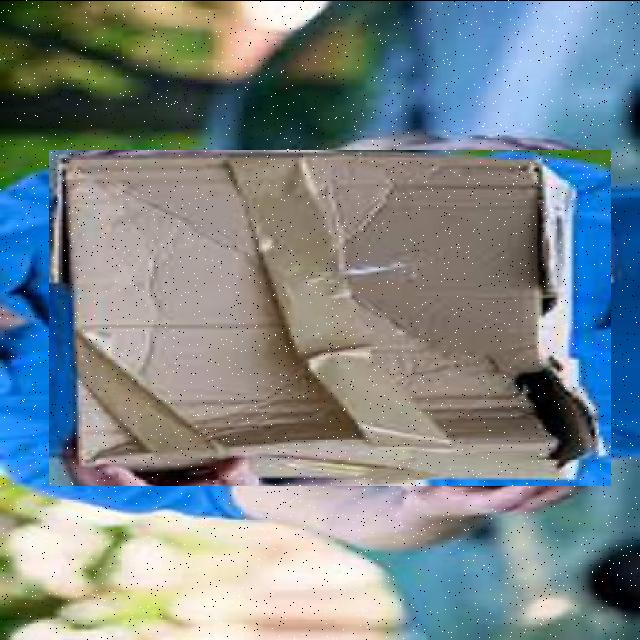defect: (49, 149, 611, 485)
